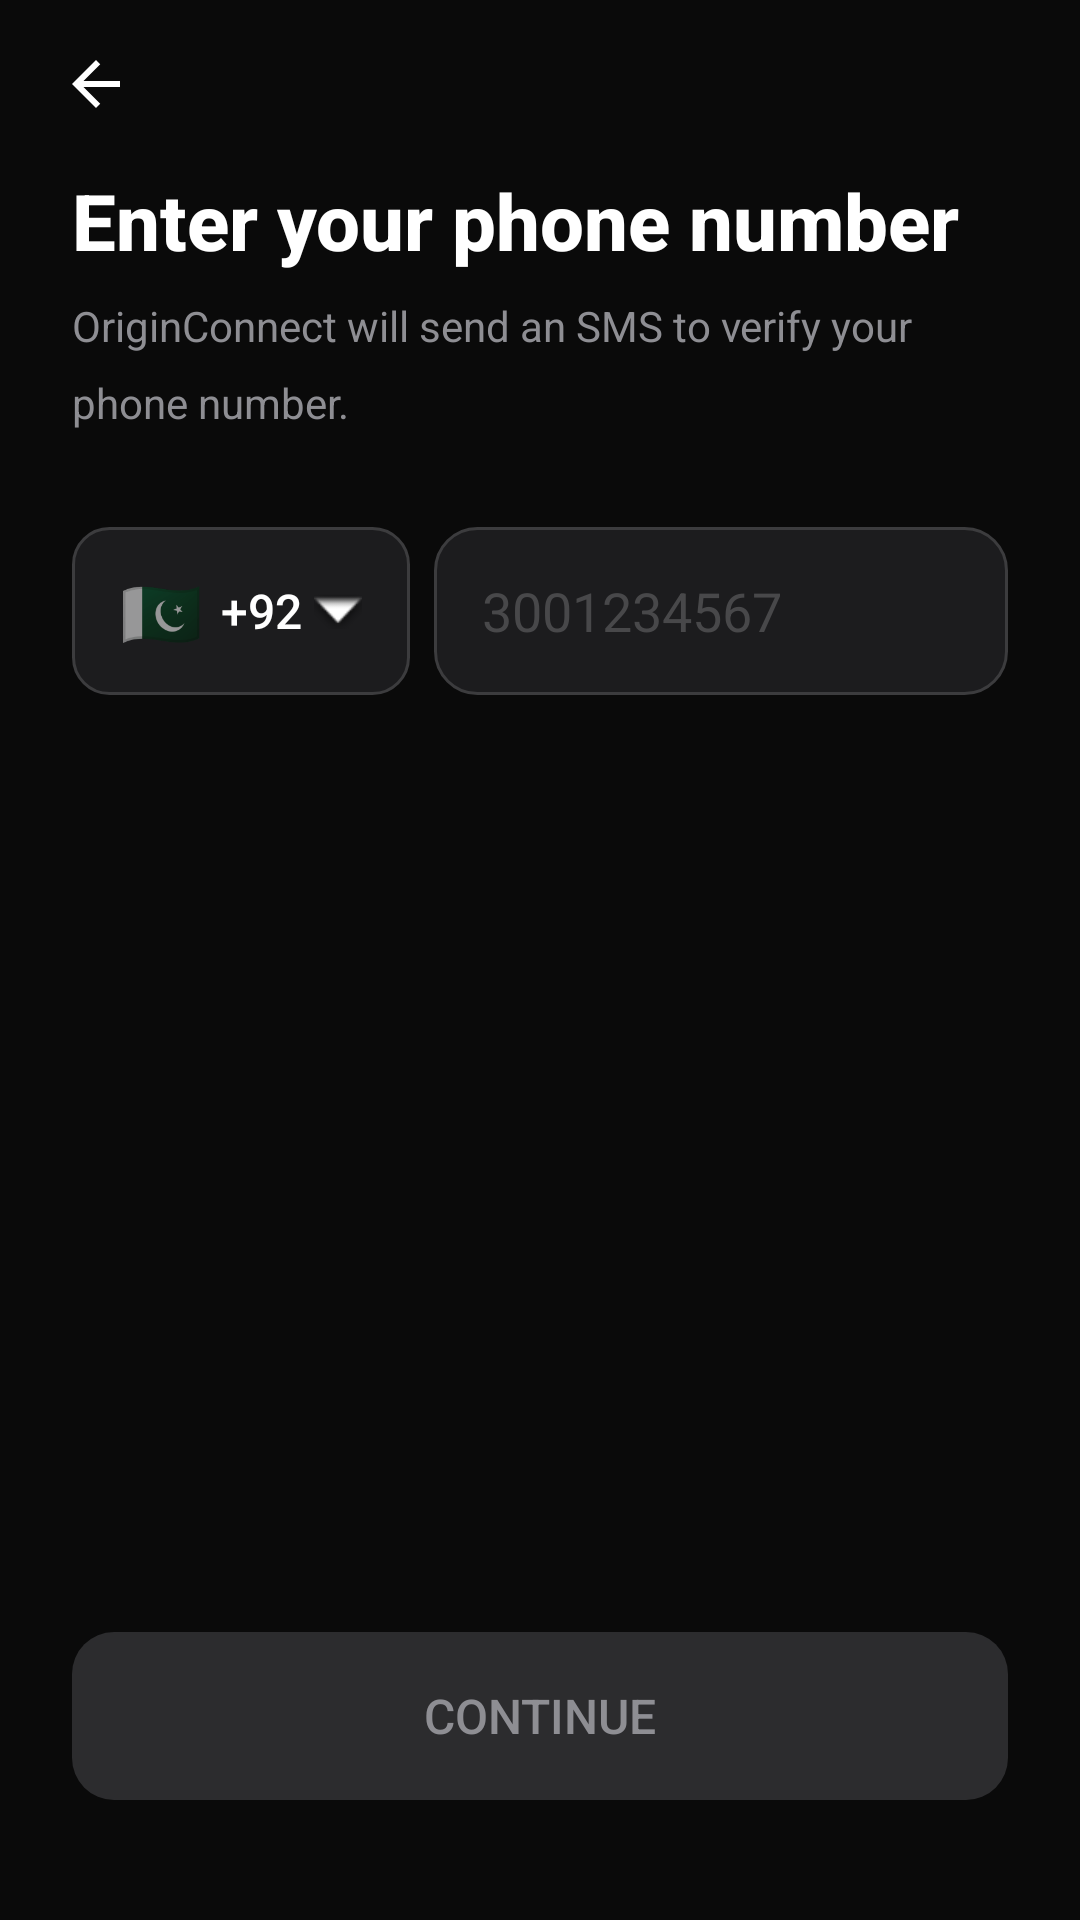

Icons on this 1080×1920 Android screen, each with the point to tap as (x=x, y=y):
arrow back: (x=96, y=84)
arrow down float: (x=338, y=610)
